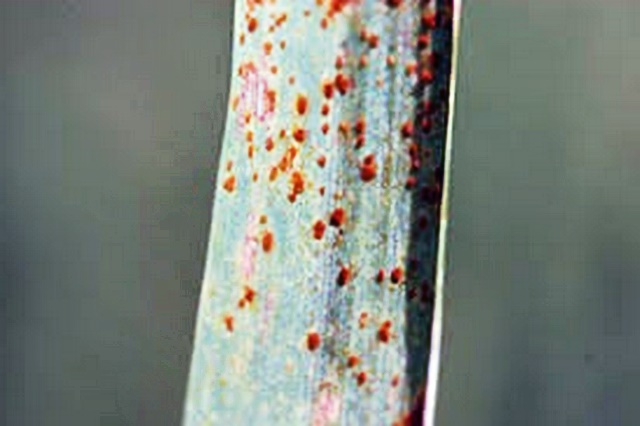Leaf Rust: (198, 32, 449, 349)
